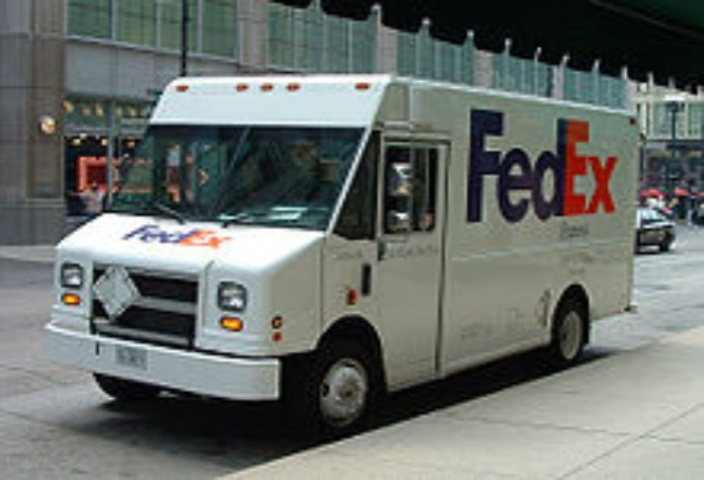van: (29, 43, 646, 392)
